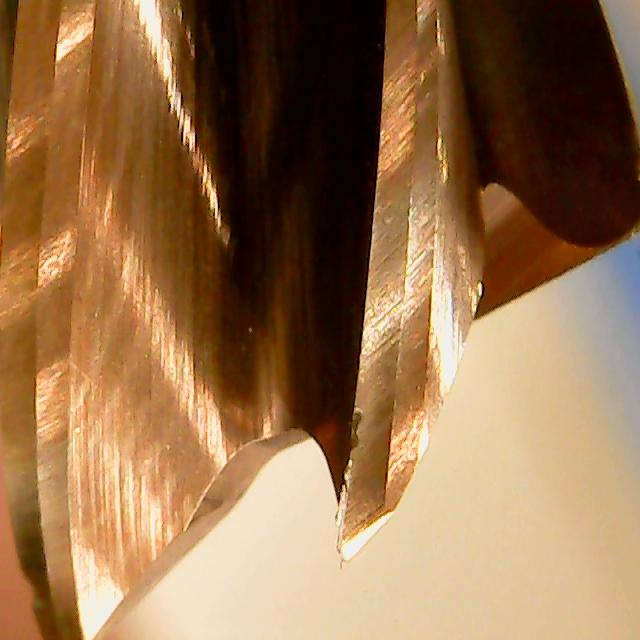Tool-wear-class-1: (314, 236, 476, 564)
